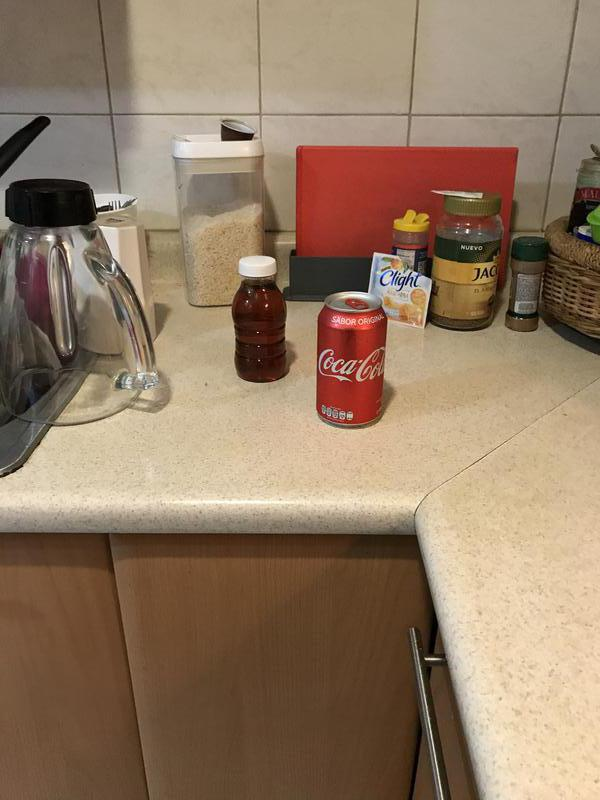coca_cola: (314, 293, 387, 430)
